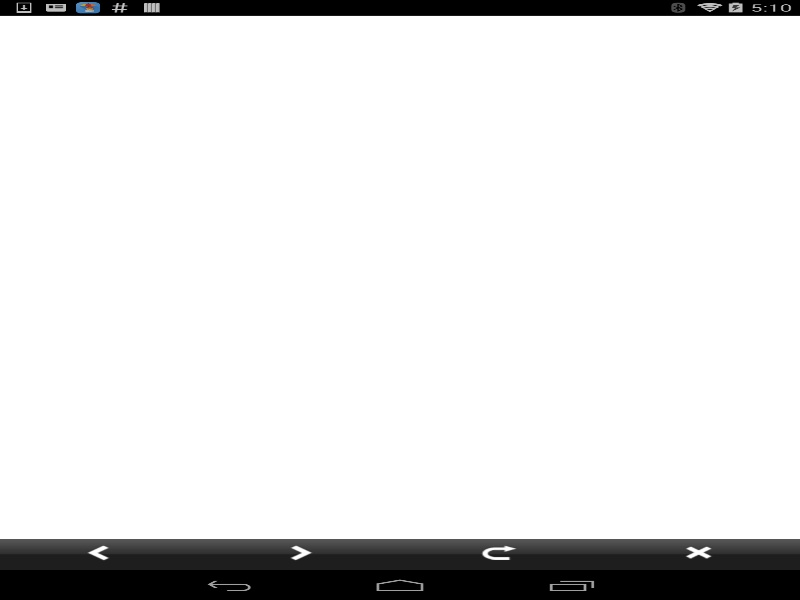Button: (0, 540, 200, 567), (200, 540, 400, 567), (400, 540, 600, 567), (600, 540, 800, 567)
Input: (670, 30, 784, 43)
